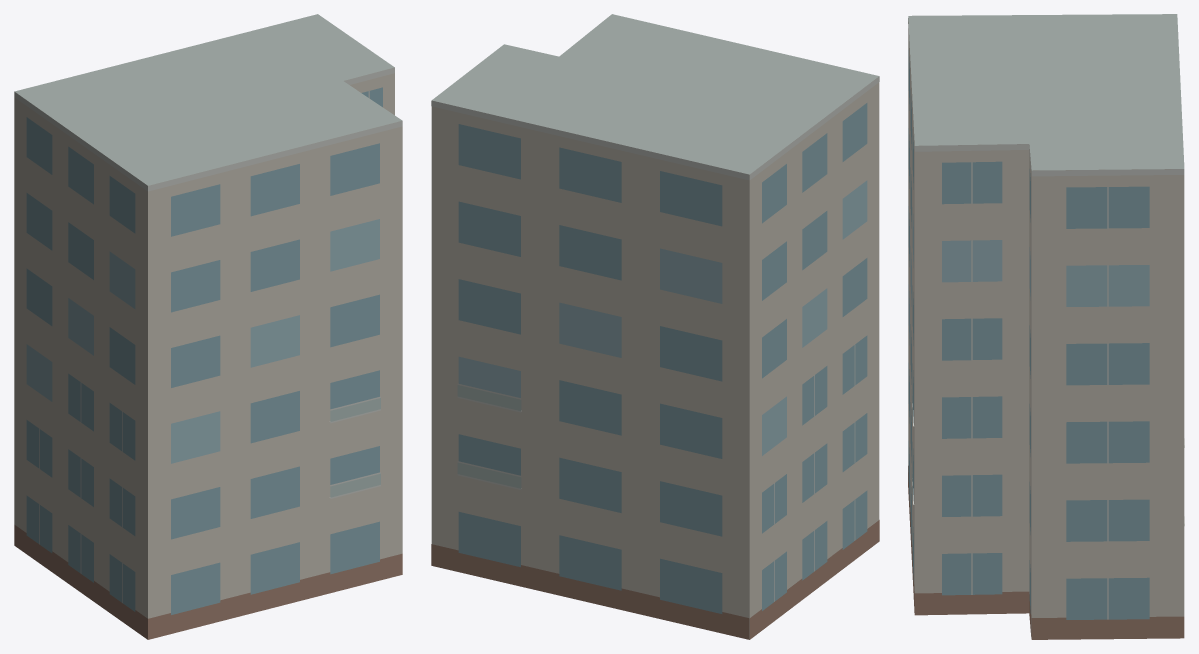
The model's file is survey-upis-32712395.glb.
3 views of the same model, side by side, from view 1: azimuth 30°, elevation 25°; view 2: azimuth 150°, elevation 25°; view 3: azimuth 270°, elevation 25° (orthographic). The views are drawn at different scales.
Parts seen in each view (by area): view 1: survey-upis-32712395.tmp; view 2: survey-upis-32712395.tmp; view 3: survey-upis-32712395.tmp.
Part boxes in pixels (left/top/right/bottom): survey-upis-32712395.tmp: left=14, top=14, right=402, bottom=639; survey-upis-32712395.tmp: left=431, top=14, right=879, bottom=639; survey-upis-32712395.tmp: left=908, top=14, right=1184, bottom=639.
Size of the model in its own units: 13.84 by 19.35 by 10.34.
